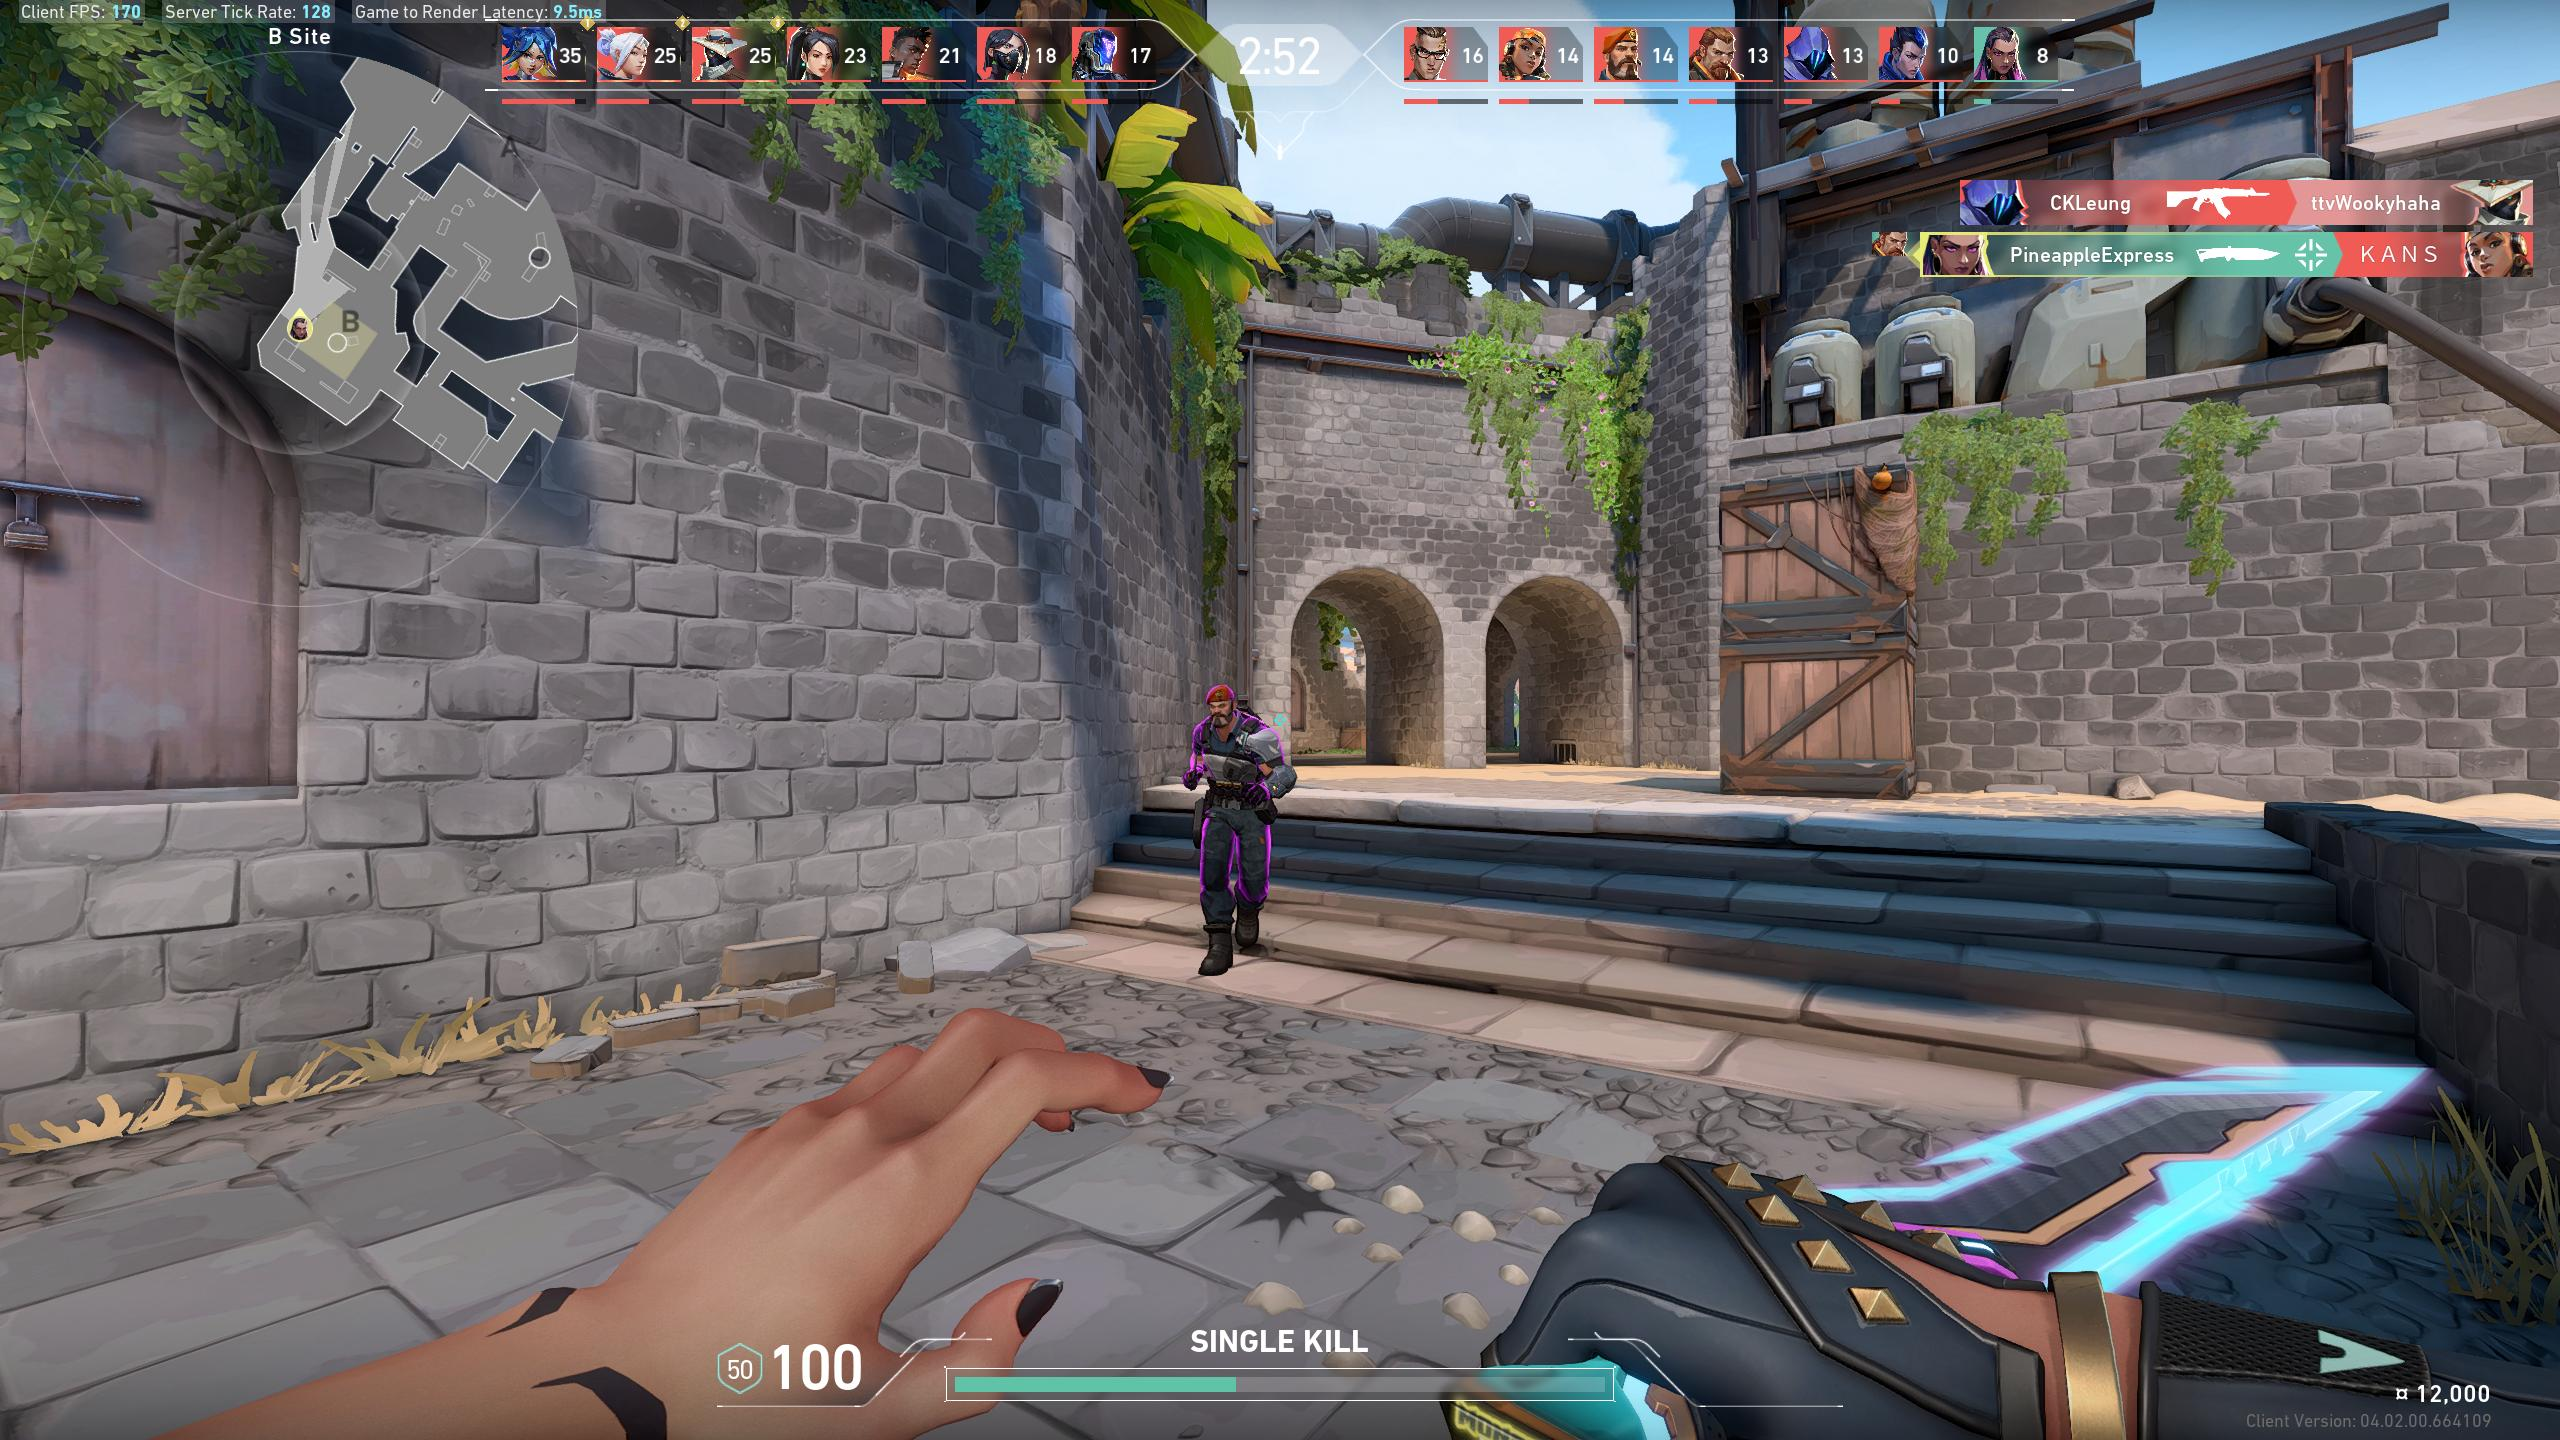enemyBody: (1213, 726, 1252, 809)
enemyHead: (1210, 698, 1233, 721)
